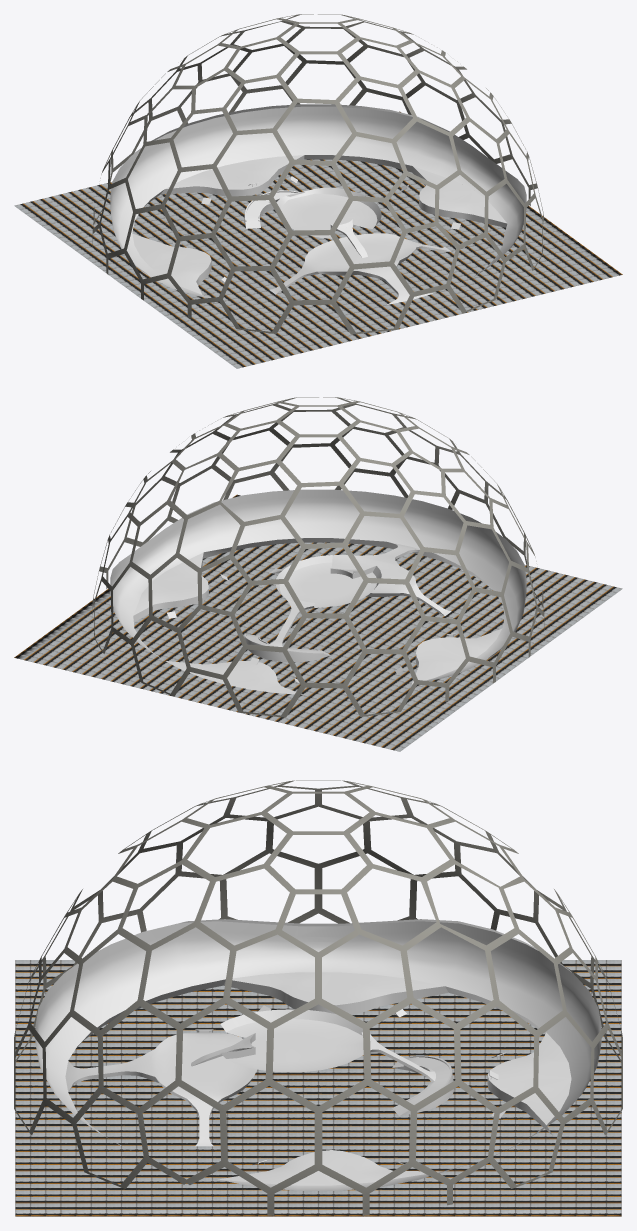
File: arena-test.glb
The picture shows the model from 3 angles, top to bottom: view 1: azimuth 30°, elevation 25°; view 2: azimuth 150°, elevation 25°; view 3: azimuth 270°, elevation 25°; orthographic projection. The views are drawn at different scales.
Parts seen in each view (by area): view 1: floor, outer, stadium, sub_structure, main_structure, side_structure_3, side_structure_2, side_structure_1, ramp; view 2: floor, outer, stadium, main_structure, side_structure_2, sub_structure, side_structure_1, side_structure_3, ramp; view 3: floor, outer, stadium, main_structure, sub_structure, side_structure_1, side_structure_3, side_structure_2, ramp.
Part boxes in pixels (x1,y1,x2,y2): floor: (14,111,622,368); outer: (92,14,544,334); stadium: (110,104,526,297); sub_structure: (269,233,451,304); main_structure: (268,187,381,257); side_structure_3: (160,155,304,196); side_structure_2: (412,166,507,227); side_structure_1: (132,233,211,294); ramp: (244,190,300,228); floor: (14,494,622,751); outer: (92,397,544,717); stadium: (110,489,526,680); main_structure: (269,555,381,646); side_structure_2: (133,552,208,621); sub_structure: (269,542,451,615); side_structure_1: (411,628,502,684); side_structure_3: (165,661,303,694); ramp: (244,634,330,662); floor: (15,960,621,1216); outer: (14,780,622,1215); stadium: (35,919,601,1190); main_structure: (191,1009,435,1082); sub_structure: (65,1029,256,1146); side_structure_1: (223,972,448,1014); side_structure_3: (487,1032,571,1135); side_structure_2: (218,1150,442,1185); ramp: (392,1055,454,1116).
Size of what is drawn, in the model's own units: 603 by 302 by 603.
2 materials, 1 textured.
